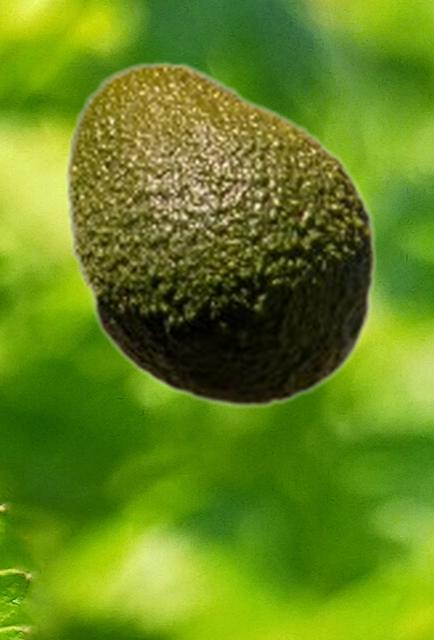avocado: (63, 60, 377, 409)
